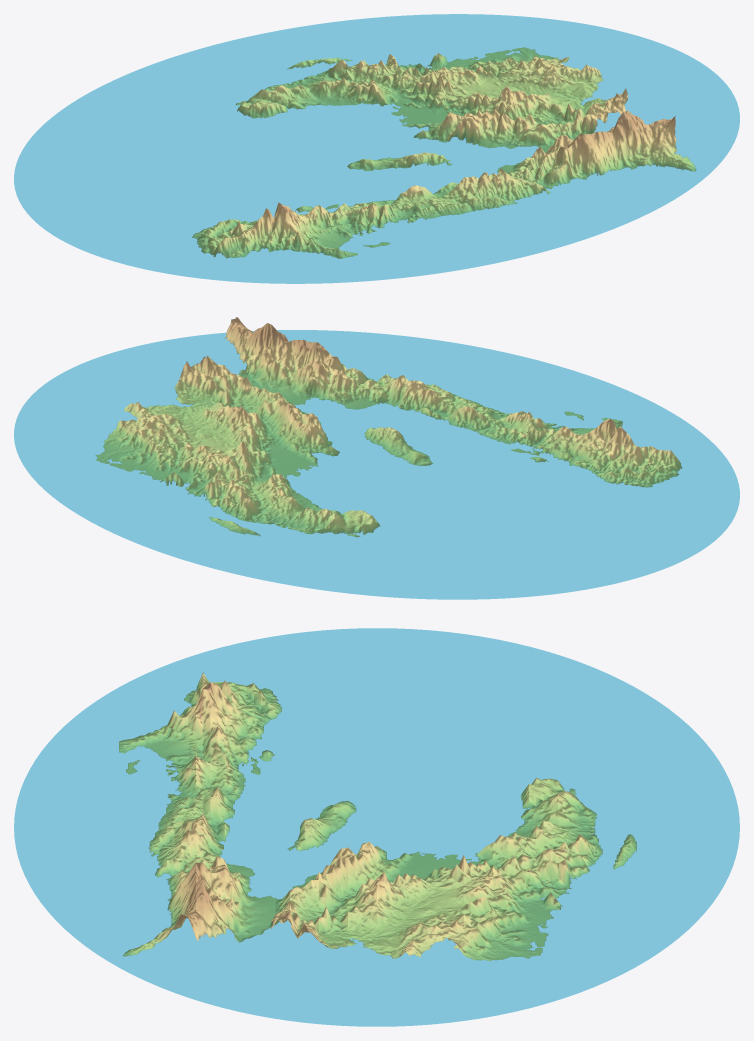
File: HTI-terrain.glb
3 views of the same model, one above another, from view 1: azimuth 30°, elevation 25°; view 2: azimuth 150°, elevation 25°; view 3: azimuth 270°, elevation 25° (orthographic). The views are drawn at different scales.
Parts seen in each view (by area): view 1: Relevo com hidrografia; view 2: Relevo com hidrografia; view 3: Relevo com hidrografia.
Boxes of the visible parts, x1,y1,x2,y2 form: Relevo com hidrografia: (14, 14, 739, 283); Relevo com hidrografia: (14, 317, 739, 599); Relevo com hidrografia: (14, 628, 739, 1026).
Bounding box in the file's own units: 2.24 × 0.1487 × 1.72.
Materials: 2 (1 with a texture image).
